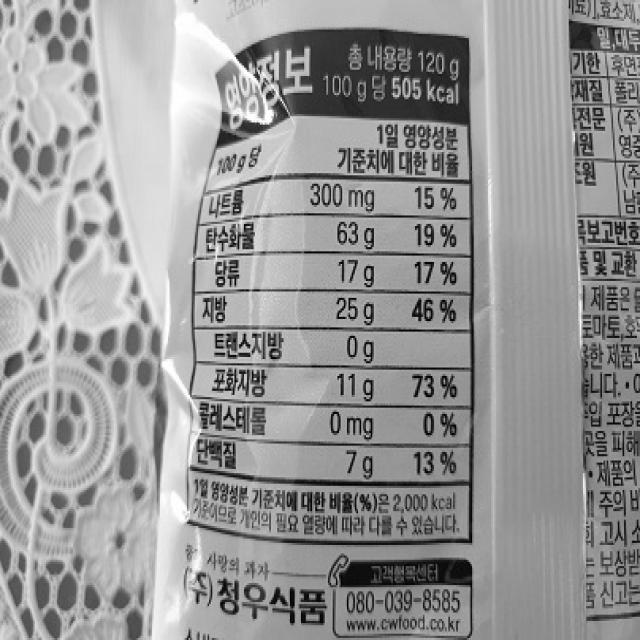Nutrition Label: (181, 19, 478, 551)
